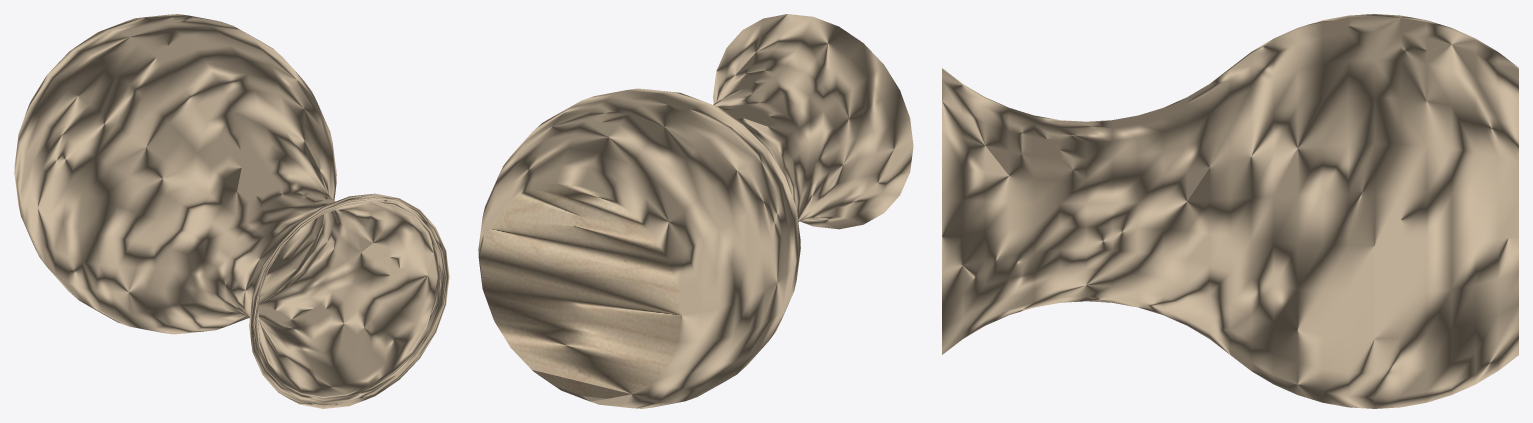
File: model_align.obj
The picture shows the model from 3 angles, left to right: view 1: azimuth 30°, elevation 25°; view 2: azimuth 150°, elevation 25°; view 3: azimuth 270°, elevation 25°; orthographic projection. The views are drawn at different scales.
Size of the model in its own units: 0.1512 by 0.1512 by 0.22.
Materials: 2 (2 with a texture image).
